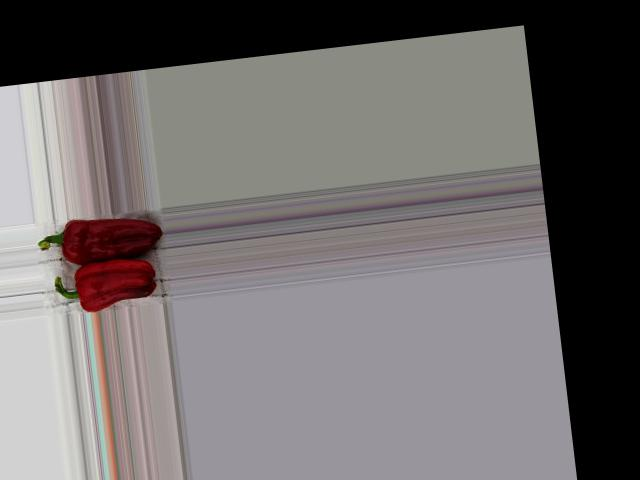bell_pepper: (32, 210, 164, 271)
